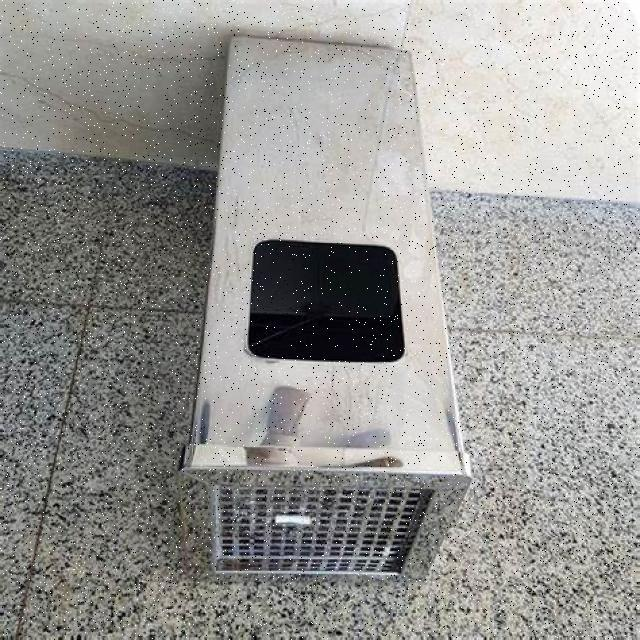garbage container: (173, 32, 484, 601)
